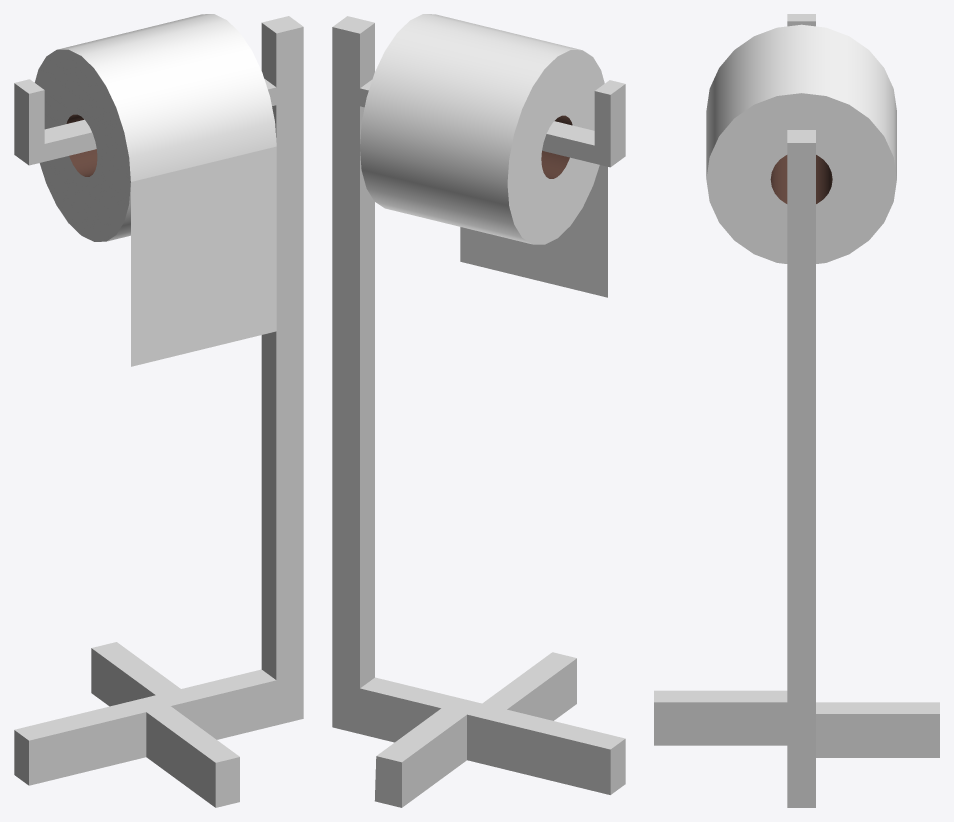
The picture shows the model from 3 angles, left to right: view 1: azimuth 30°, elevation 25°; view 2: azimuth 150°, elevation 25°; view 3: azimuth 270°, elevation 25°; orthographic projection. The views are drawn at different scales.
Parts seen in each view (by area): view 1: Rollo higiénico_001, Layer0_001; view 2: Layer0_001, Rollo higiénico_001; view 3: Rollo higiénico_001, Layer0_001.
Part boxes in pixels (x1,y1,x2,y2): Rollo higiénico_001: (34,14,276,366); Layer0_001: (14,16,303,807); Layer0_001: (332,16,625,807); Rollo higiénico_001: (360,14,607,297); Rollo higiénico_001: (706,24,896,263); Layer0_001: (654,14,939,807).
Bounding box in the file's own units: 12.6 × 31.1 × 11.81.
